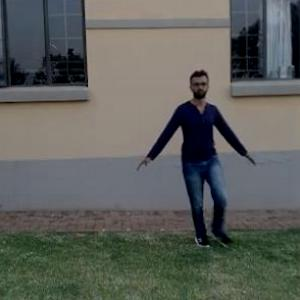land: (139, 72, 263, 237)
